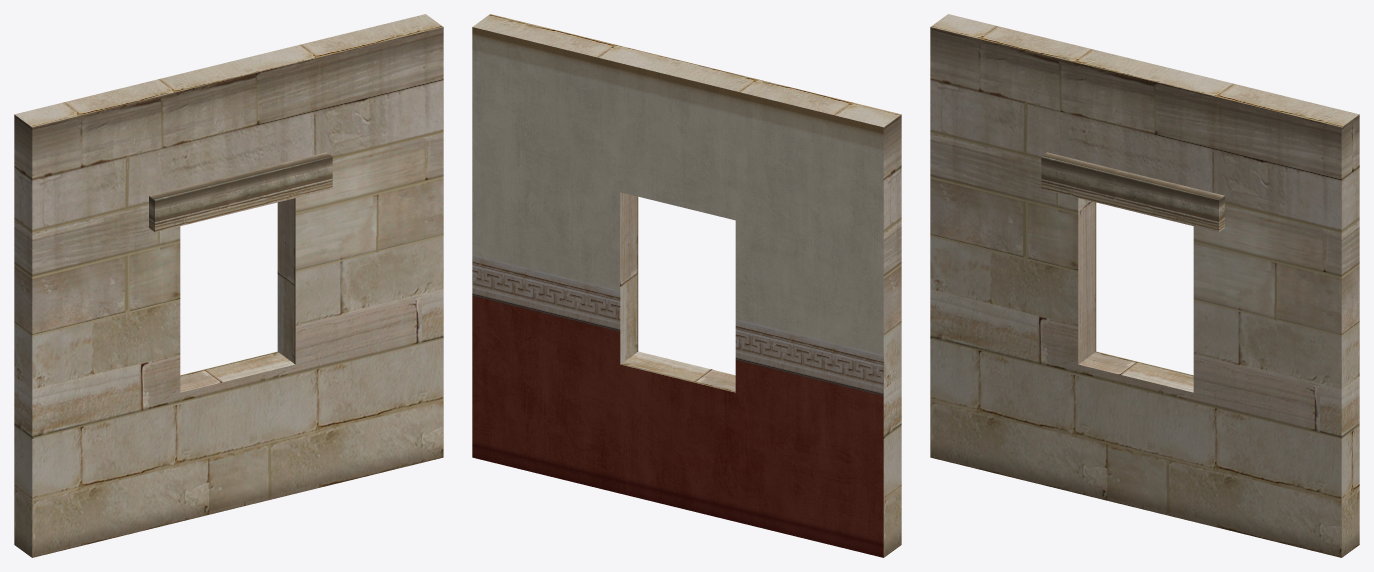
The model's file is svspartawindow1.dae.
3 views of the same model, side by side, from view 1: azimuth 30°, elevation 25°; view 2: azimuth 150°, elevation 25°; view 3: azimuth 330°, elevation 25° (orthographic).
Visible parts, largest first — view 1: unnamed_object6_sep57-0; view 2: unnamed_object6_sep57-0; view 3: unnamed_object6_sep57-0.
Part boxes in pixels (x1,y1,x2,y2): unnamed_object6_sep57-0: [14, 14, 443, 557]; unnamed_object6_sep57-0: [472, 14, 901, 557]; unnamed_object6_sep57-0: [930, 14, 1359, 557].
Size of the model in its own units: 300 by 300 by 30.
